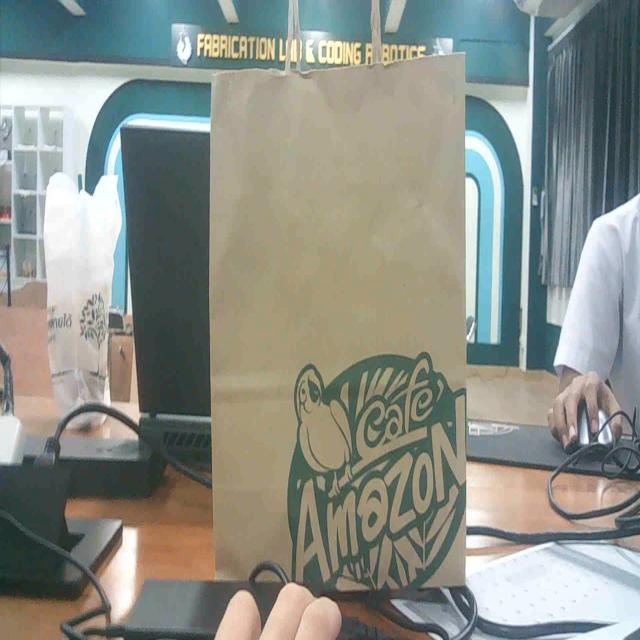bag: (198, 52, 485, 609)
